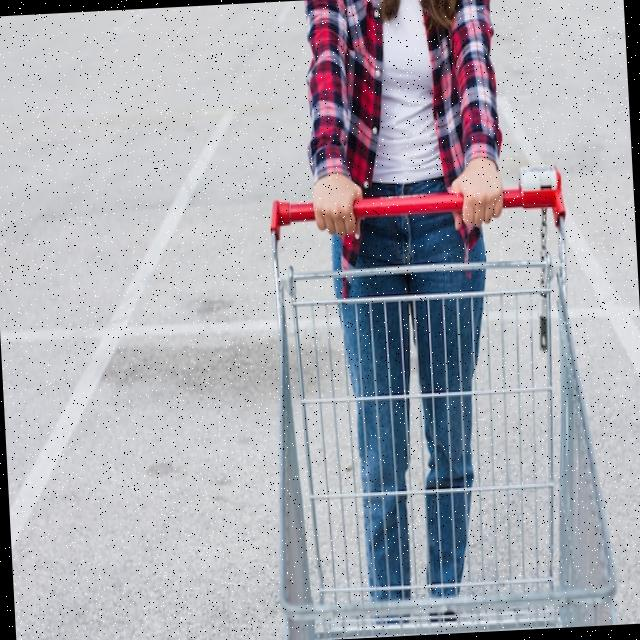Person: (300, 0, 526, 607)
